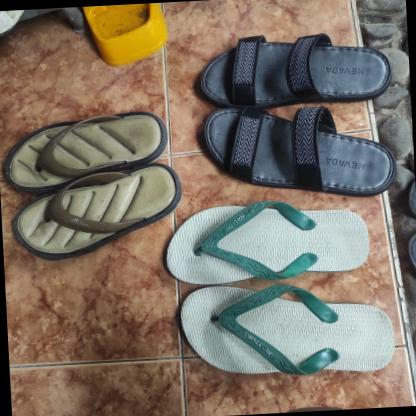Black Slide B: (199, 98, 395, 204), (192, 28, 394, 111)
Brown Flip Flop: (6, 161, 185, 262), (0, 108, 170, 195)
Green Swallow: (177, 275, 394, 381), (161, 193, 371, 288)
